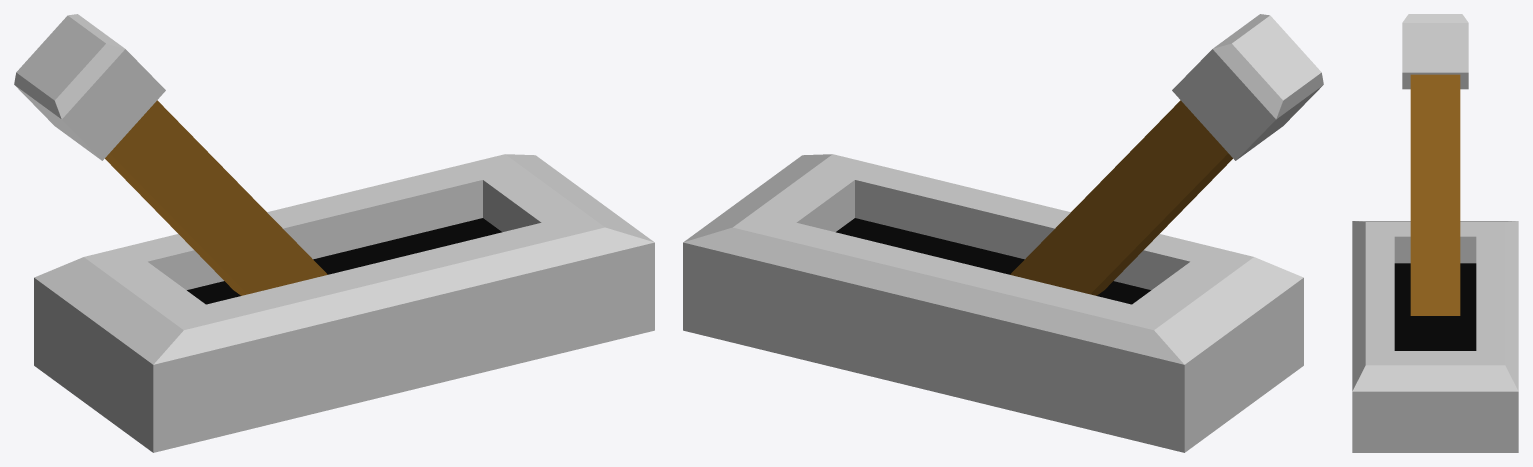
Rendered from switch.fbx.
3 views of the same model, side by side, from view 1: azimuth 30°, elevation 25°; view 2: azimuth 150°, elevation 25°; view 3: azimuth 270°, elevation 25° (orthographic). The views are drawn at different scales.
Parts seen in each view (by area): view 1: base palanca, palanca; view 2: base palanca, palanca; view 3: base palanca, palanca.
Boxes of the visible parts, x1=… form: base palanca: x1=34, y1=154, x2=654, y2=452; palanca: x1=14, y1=14, x2=327, y2=295; base palanca: x1=683, y1=154, x2=1303, y2=452; palanca: x1=1010, y1=14, x2=1323, y2=295; base palanca: x1=1352, y1=221, x2=1518, y2=452; palanca: x1=1402, y1=14, x2=1468, y2=315.
Bounding box in the file's own units: 134 × 87.08 × 49.33.
